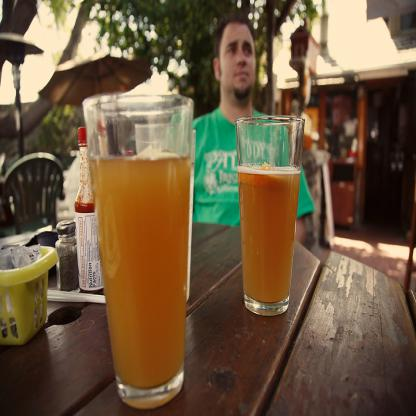drinking: (82, 93, 194, 409), (235, 116, 305, 316)
